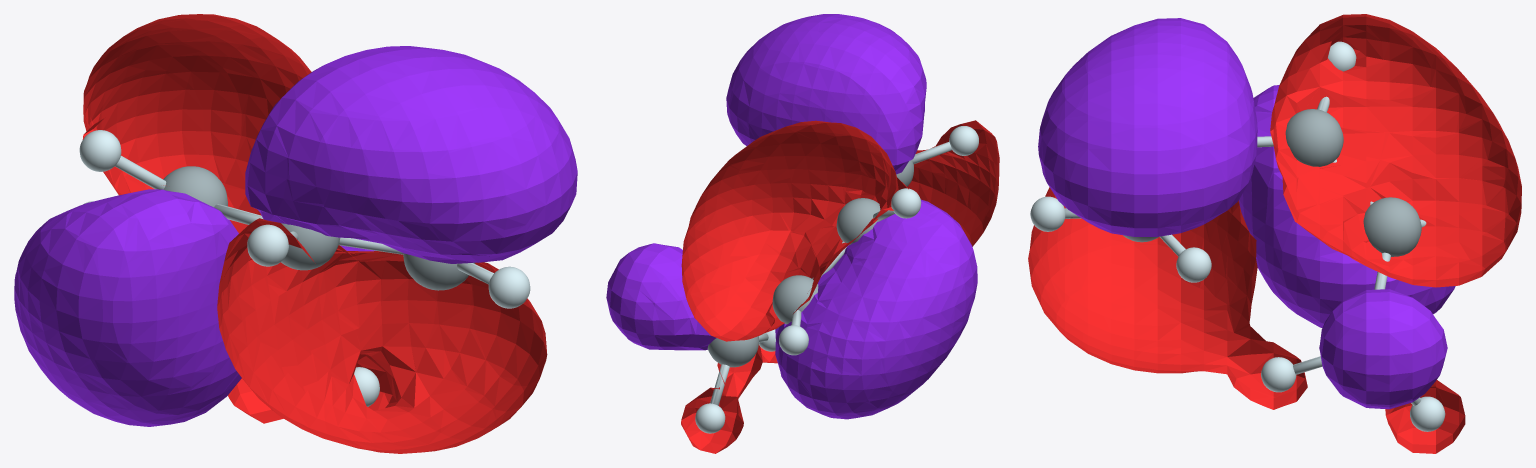
3 views of the same model, side by side, from view 1: azimuth 30°, elevation 25°; view 2: azimuth 150°, elevation 25°; view 3: azimuth 270°, elevation 25° (orthographic). The views are drawn at different scales.
Visible parts, largest first — view 1: Renderer Node; view 2: Renderer Node; view 3: Renderer Node.
Boxes of the visible parts, left/top/right/bottom form: Renderer Node: left=14, top=14, right=577, bottom=453; Renderer Node: left=606, top=14, right=999, bottom=453; Renderer Node: left=1028, top=14, right=1521, bottom=453.
Bounding box in the file's own units: 4.97 × 5.03 × 5.58.
